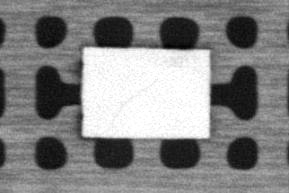DIE_CRACK: (110, 78, 159, 130)
